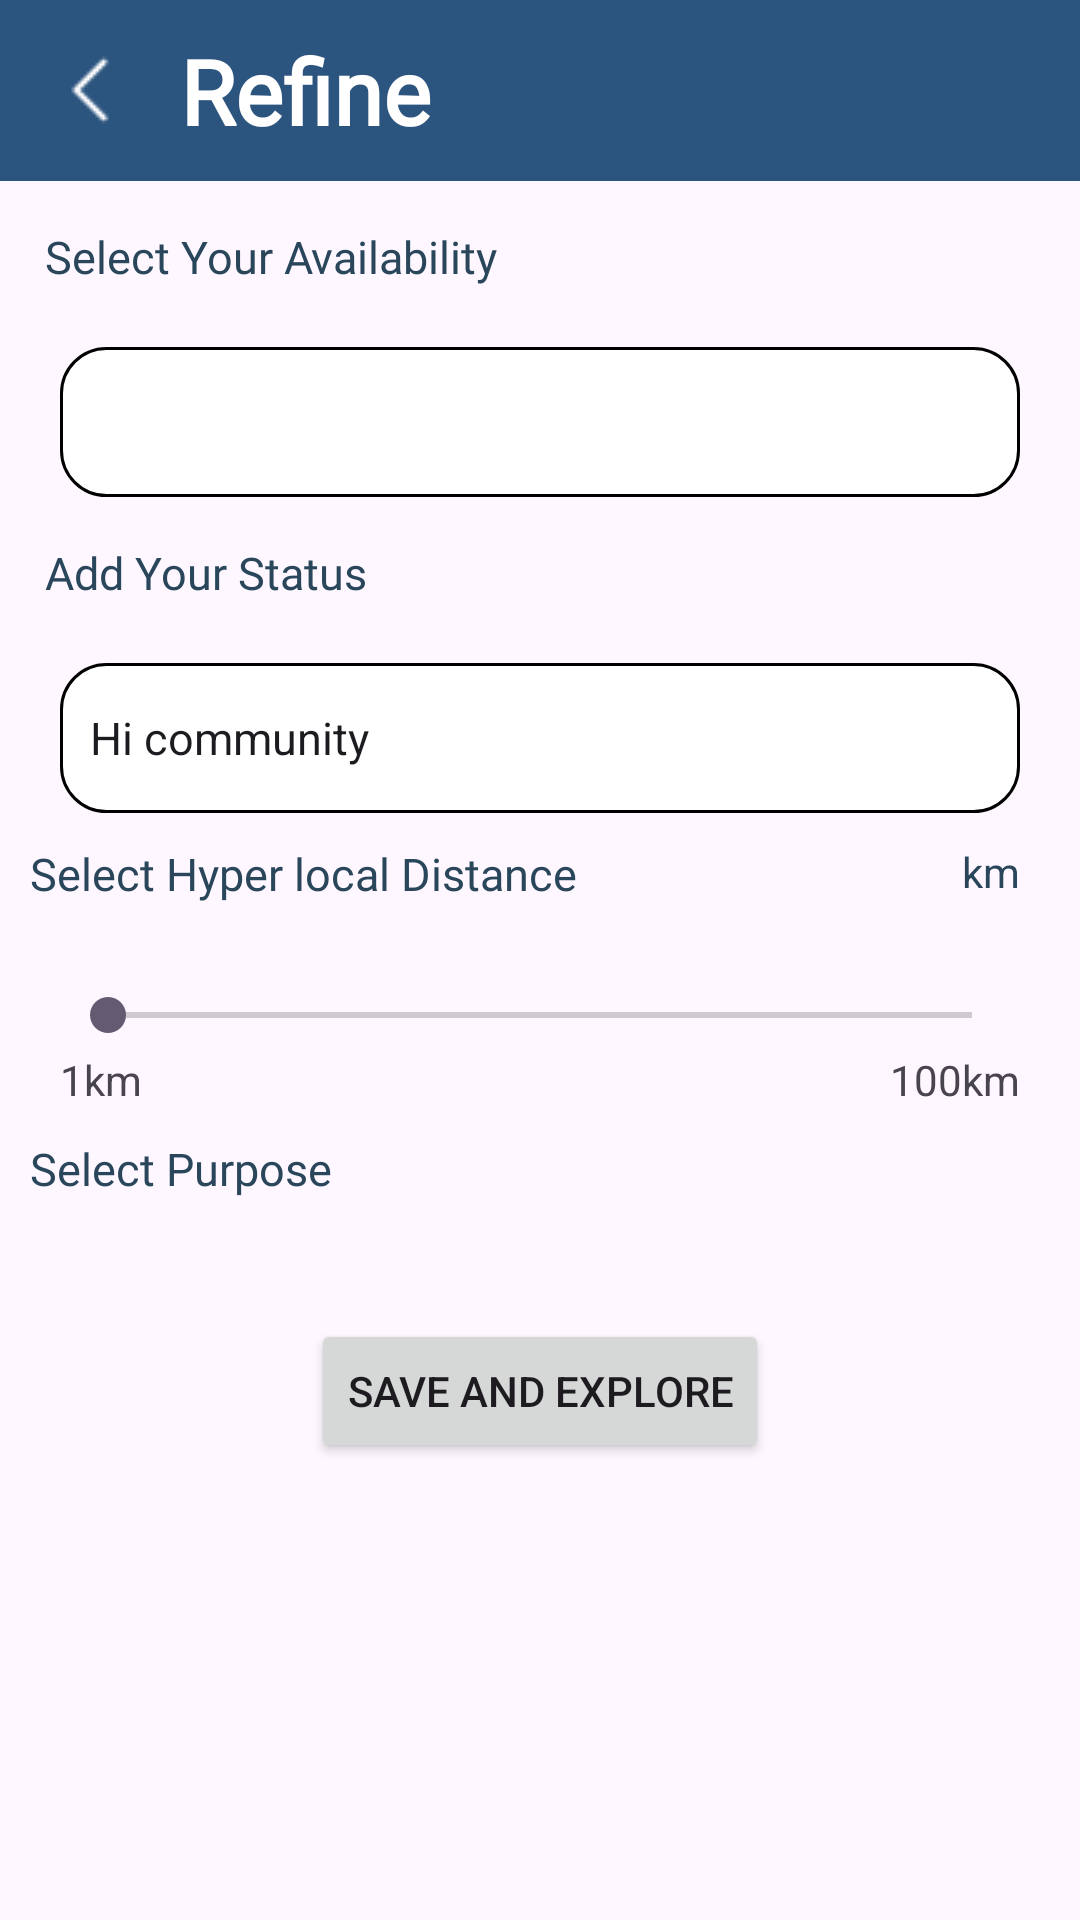

Icons on this 1080×1920 Android screen, each with the point to tap as (x,y):
back: (90,90)
